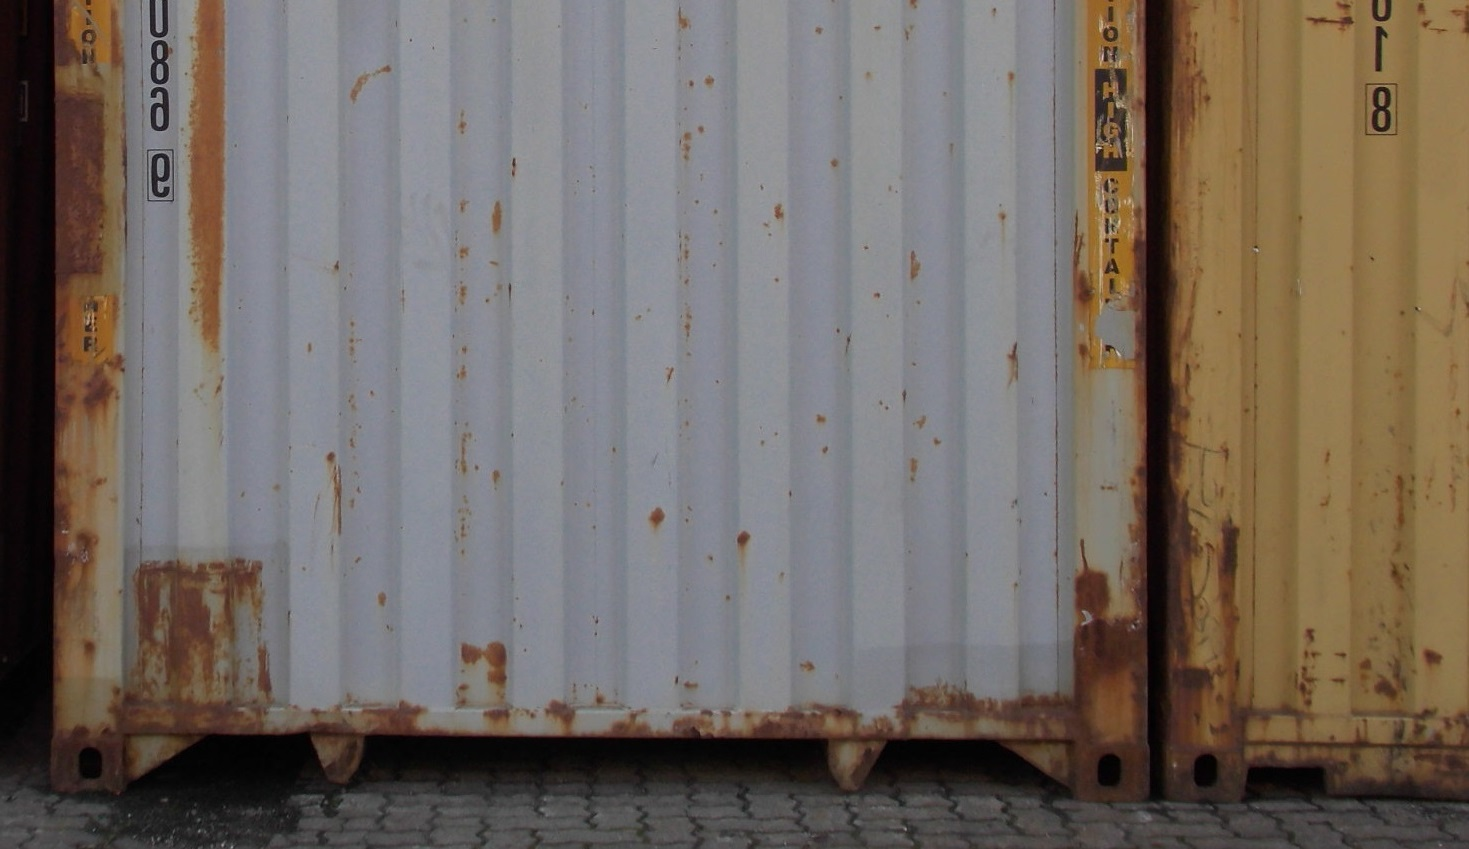container_no_door: (66, 7, 1147, 811), (1164, 1, 1468, 798)
